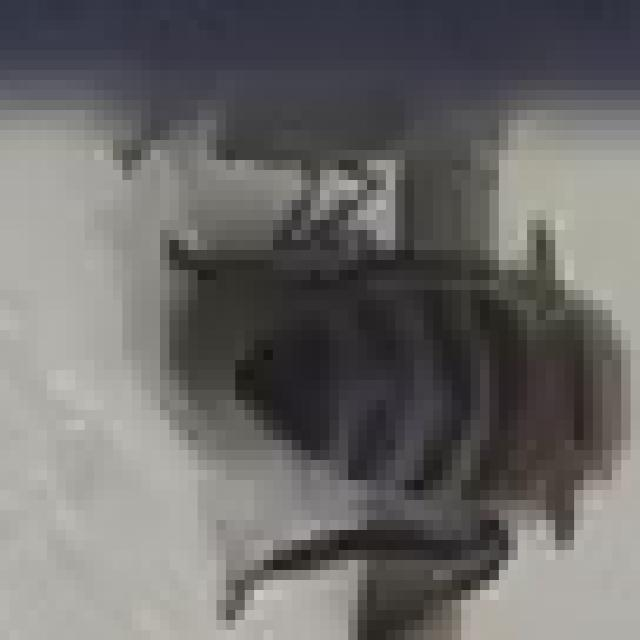honeybee: (101, 102, 631, 620)
